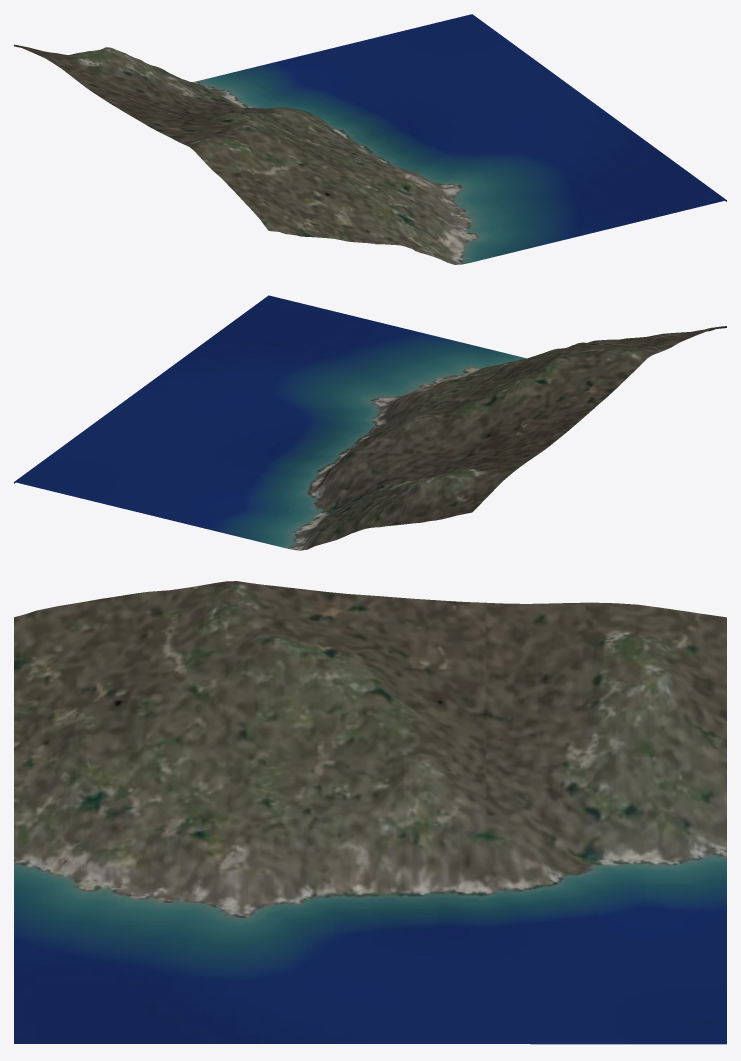
3 views of the same model, one above another, from view 1: azimuth 30°, elevation 25°; view 2: azimuth 150°, elevation 25°; view 3: azimuth 270°, elevation 25° (orthographic). The views are drawn at different scales.
Size of the model in its own units: 250 by 58.55 by 241.
Materials: 1 (1 with a texture image).
